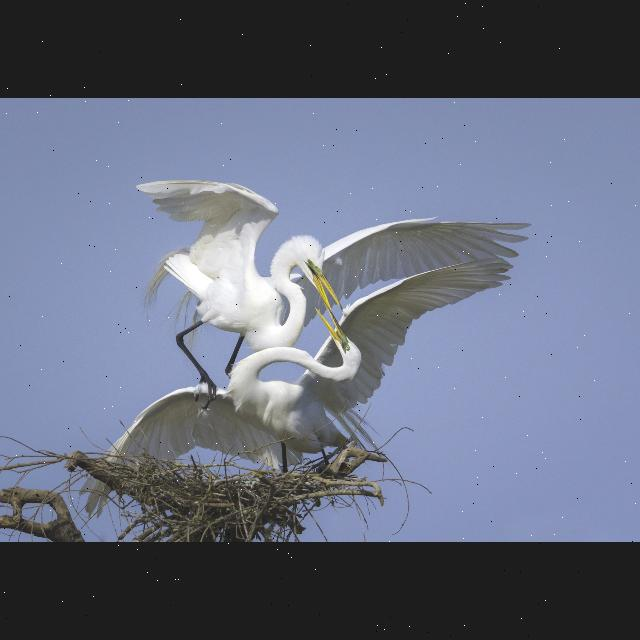egret: (61, 172, 532, 470)
